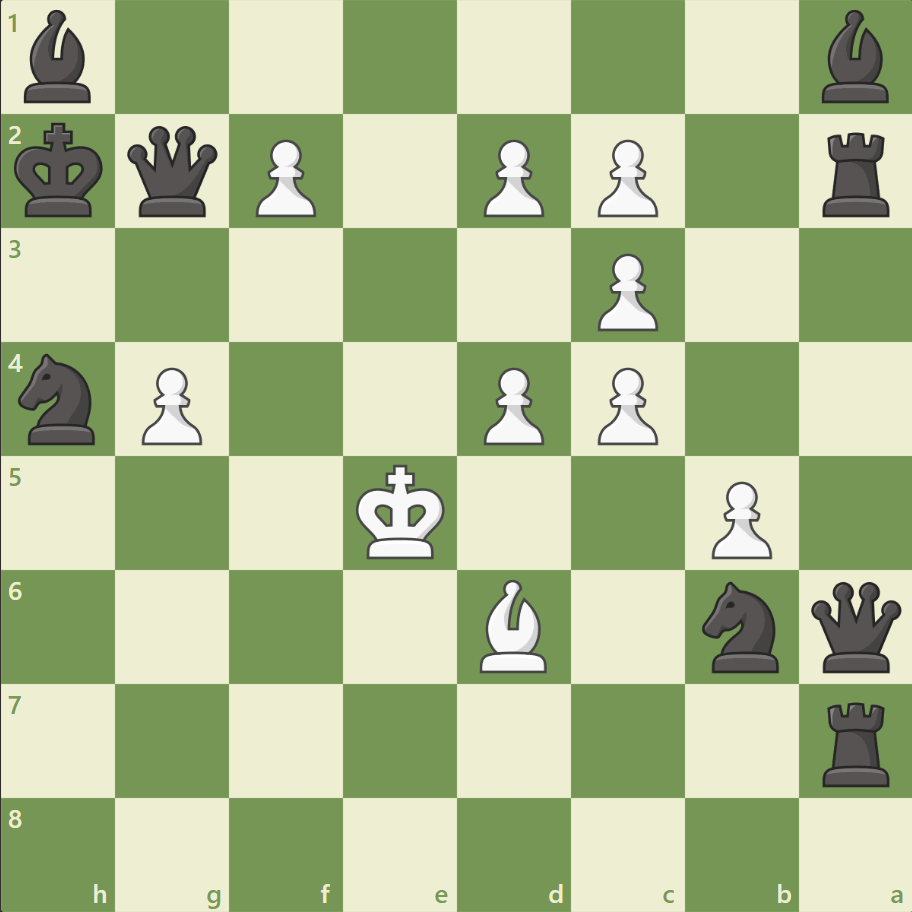B: (471, 574, 555, 676)
K: (351, 458, 451, 566)
P: (701, 473, 776, 564), (474, 359, 549, 450), (133, 359, 208, 450), (474, 132, 549, 223), (247, 132, 322, 223), (588, 359, 662, 450), (588, 246, 662, 337), (588, 132, 662, 223)
b: (812, 6, 896, 109), (17, 6, 101, 109)
k: (11, 117, 111, 225)
n: (692, 575, 789, 677), (11, 348, 108, 450)
q: (805, 576, 904, 676), (124, 122, 223, 222)
r: (814, 693, 897, 790), (814, 125, 897, 222)
